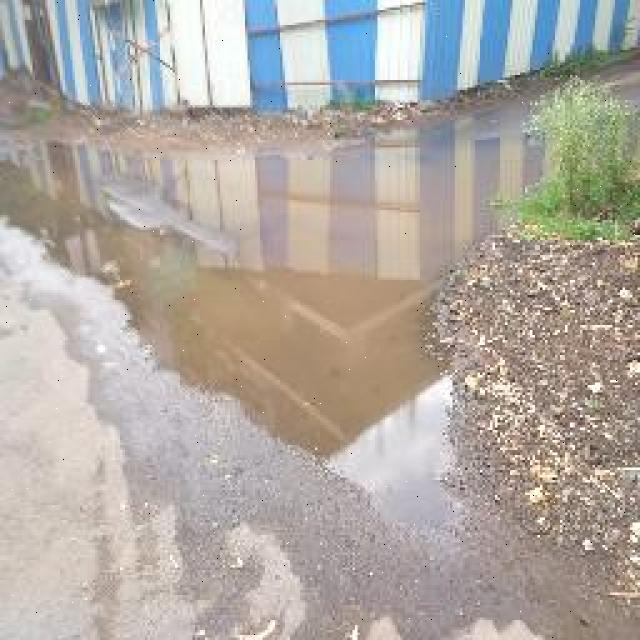stagnation: (80, 92, 550, 408)
